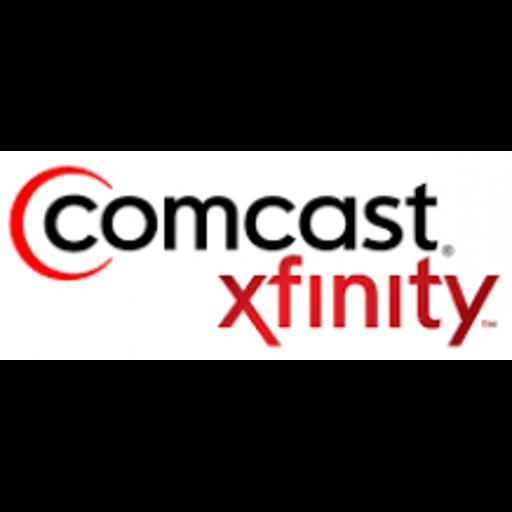Comcast Corporation: (0, 151, 512, 360)
